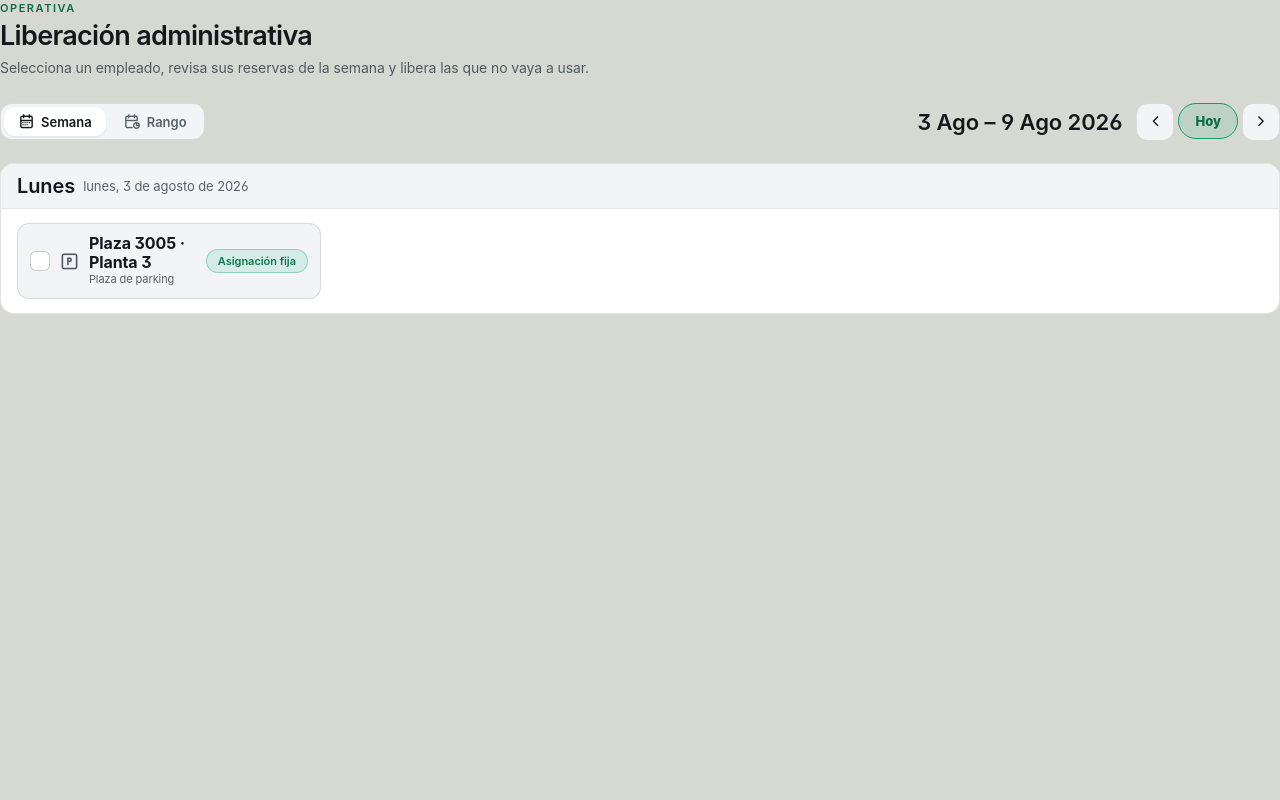
Test: AdministrativeReleasesPage (ADMIN/AGENCIA) — liberación por empleado y semana › should_reject_release_when_reason_missing
Click the checkbox: (137, 243) [17,223,321,299]
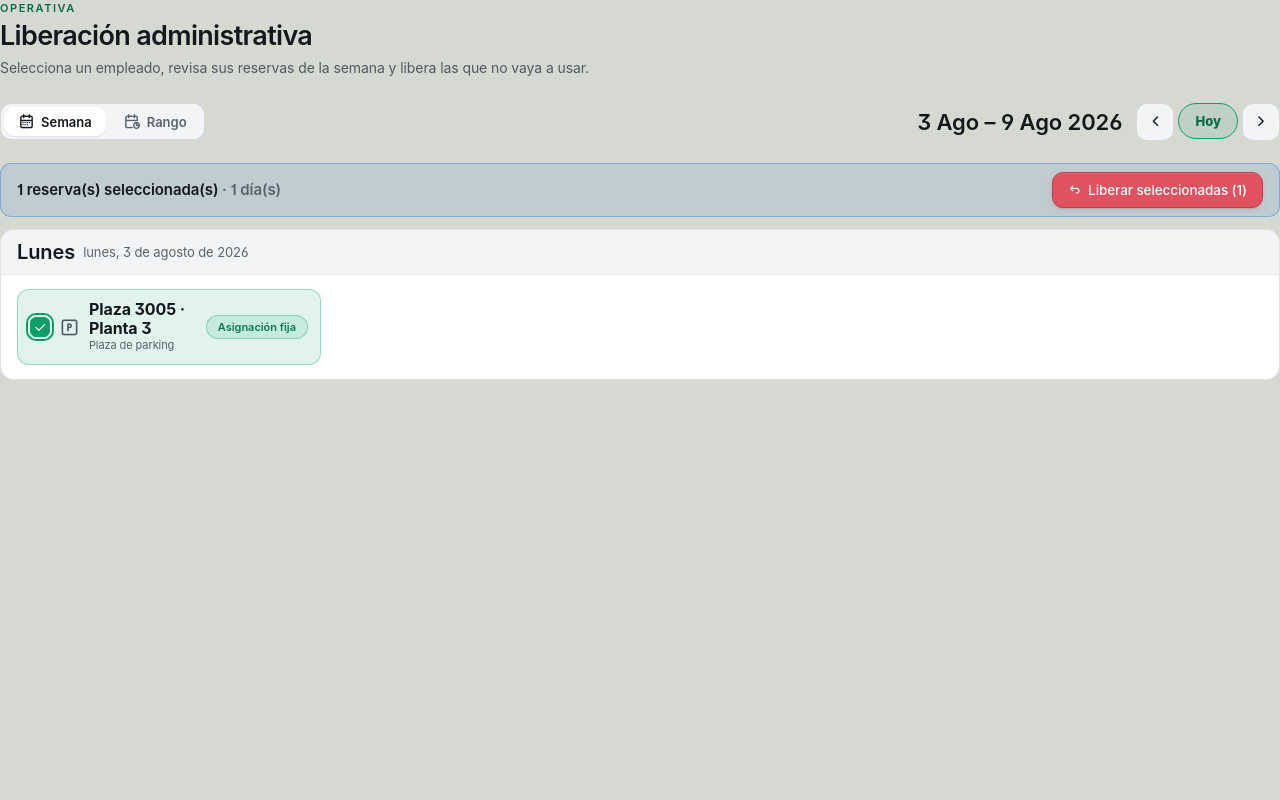
Click the button "Liberar seleccionadas (1)": (1157, 190) [1052,172,1263,208]
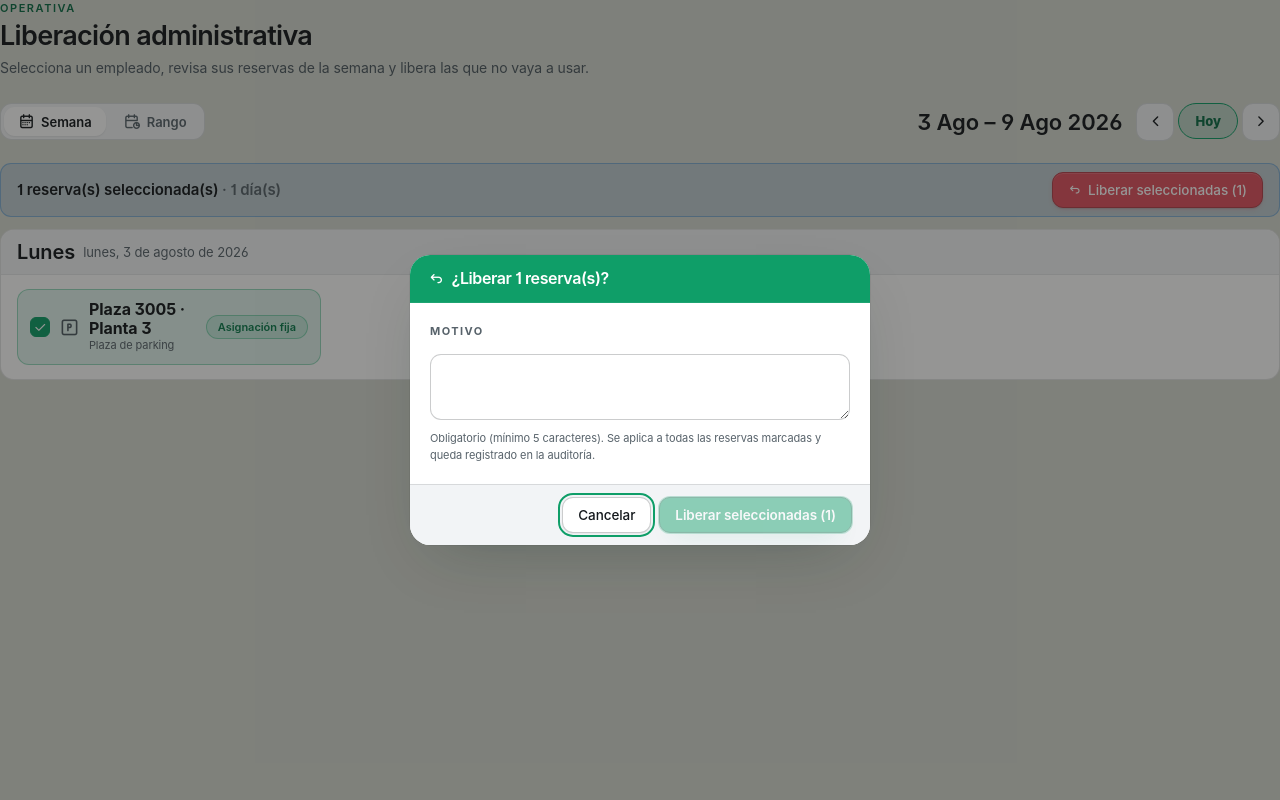
Check: the button "Liberar seleccionadas (1)" is disabled, box [659,497,852,533]
